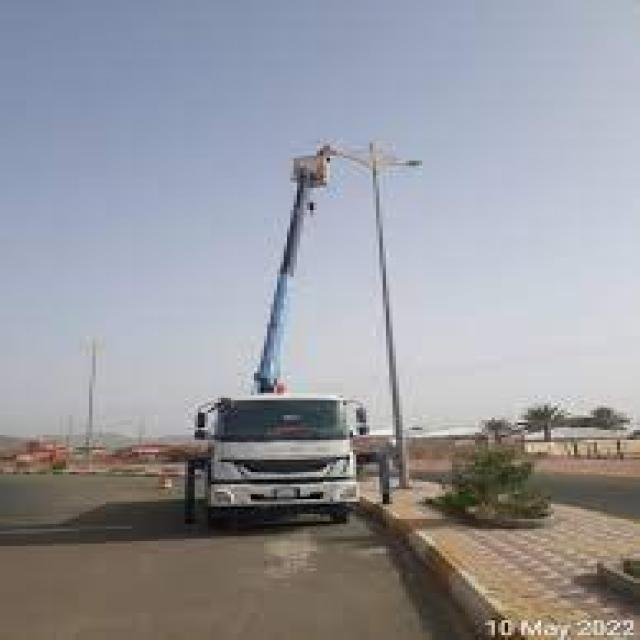Street Light: (363, 141, 419, 489)
